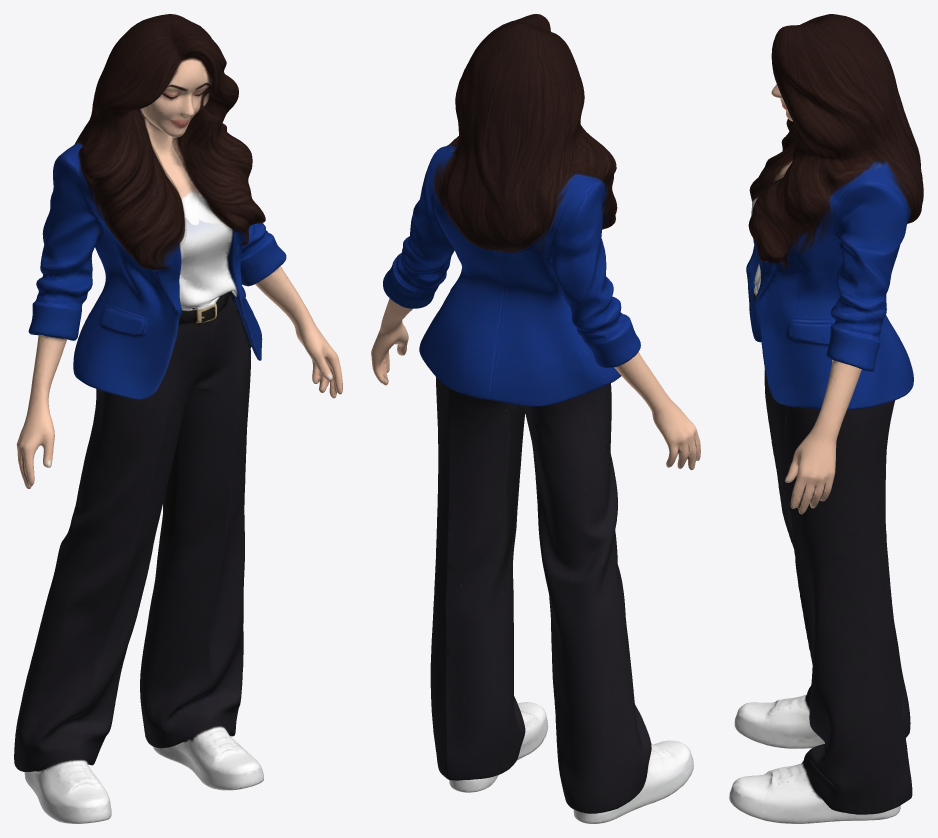
The model's file is avatar.glb.
3 views of the same model, side by side, from view 1: azimuth 30°, elevation 25°; view 2: azimuth 150°, elevation 25°; view 3: azimuth 270°, elevation 25° (orthographic). The views are drawn at different scales.
Bounding box in the file's own units: 0.8402 × 1.9 × 0.4286.
Materials: 1 (1 with a texture image).
